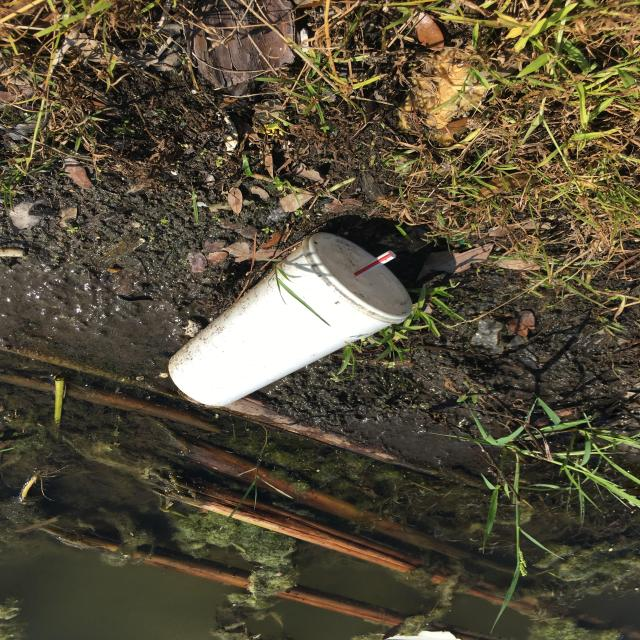litter: (165, 232, 413, 407)
